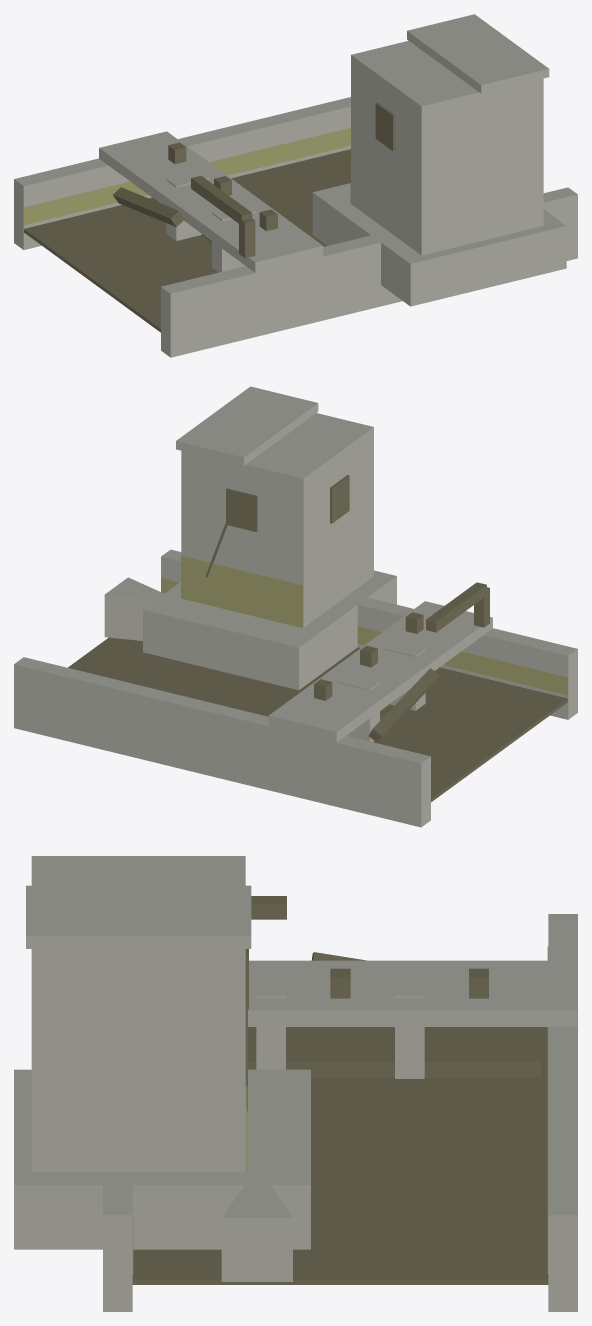
Rendered from SM_CasetaCompuertas_v3_Abandonada_LOD1.fbx.
3 views of the same model, one above another, from view 1: azimuth 30°, elevation 25°; view 2: azimuth 150°, elevation 25°; view 3: azimuth 270°, elevation 25° (orthographic). The views are drawn at different scales.
Parts seen in each view (by area): view 1: SM_bloques.caseta_compuertas_v3_LOD1; view 2: SM_bloques.caseta_compuertas_v3_LOD1; view 3: SM_bloques.caseta_compuertas_v3_LOD1.
Part boxes in pixels (x1,y1,x2,y2): SM_bloques.caseta_compuertas_v3_LOD1: [14, 14, 577, 357]; SM_bloques.caseta_compuertas_v3_LOD1: [14, 386, 577, 827]; SM_bloques.caseta_compuertas_v3_LOD1: [14, 856, 577, 1311].
Size of the model in its own units: 12.1 by 6.24 by 9.5.
